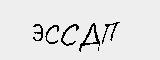Д: (78, 20, 102, 52)
П: (99, 19, 119, 41)
С: (59, 21, 79, 47), (43, 19, 59, 46)
Э: (32, 22, 44, 43)
